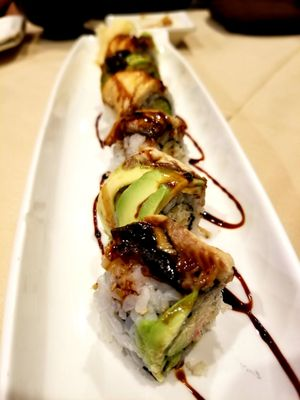sushi: (2, 19, 299, 400)
